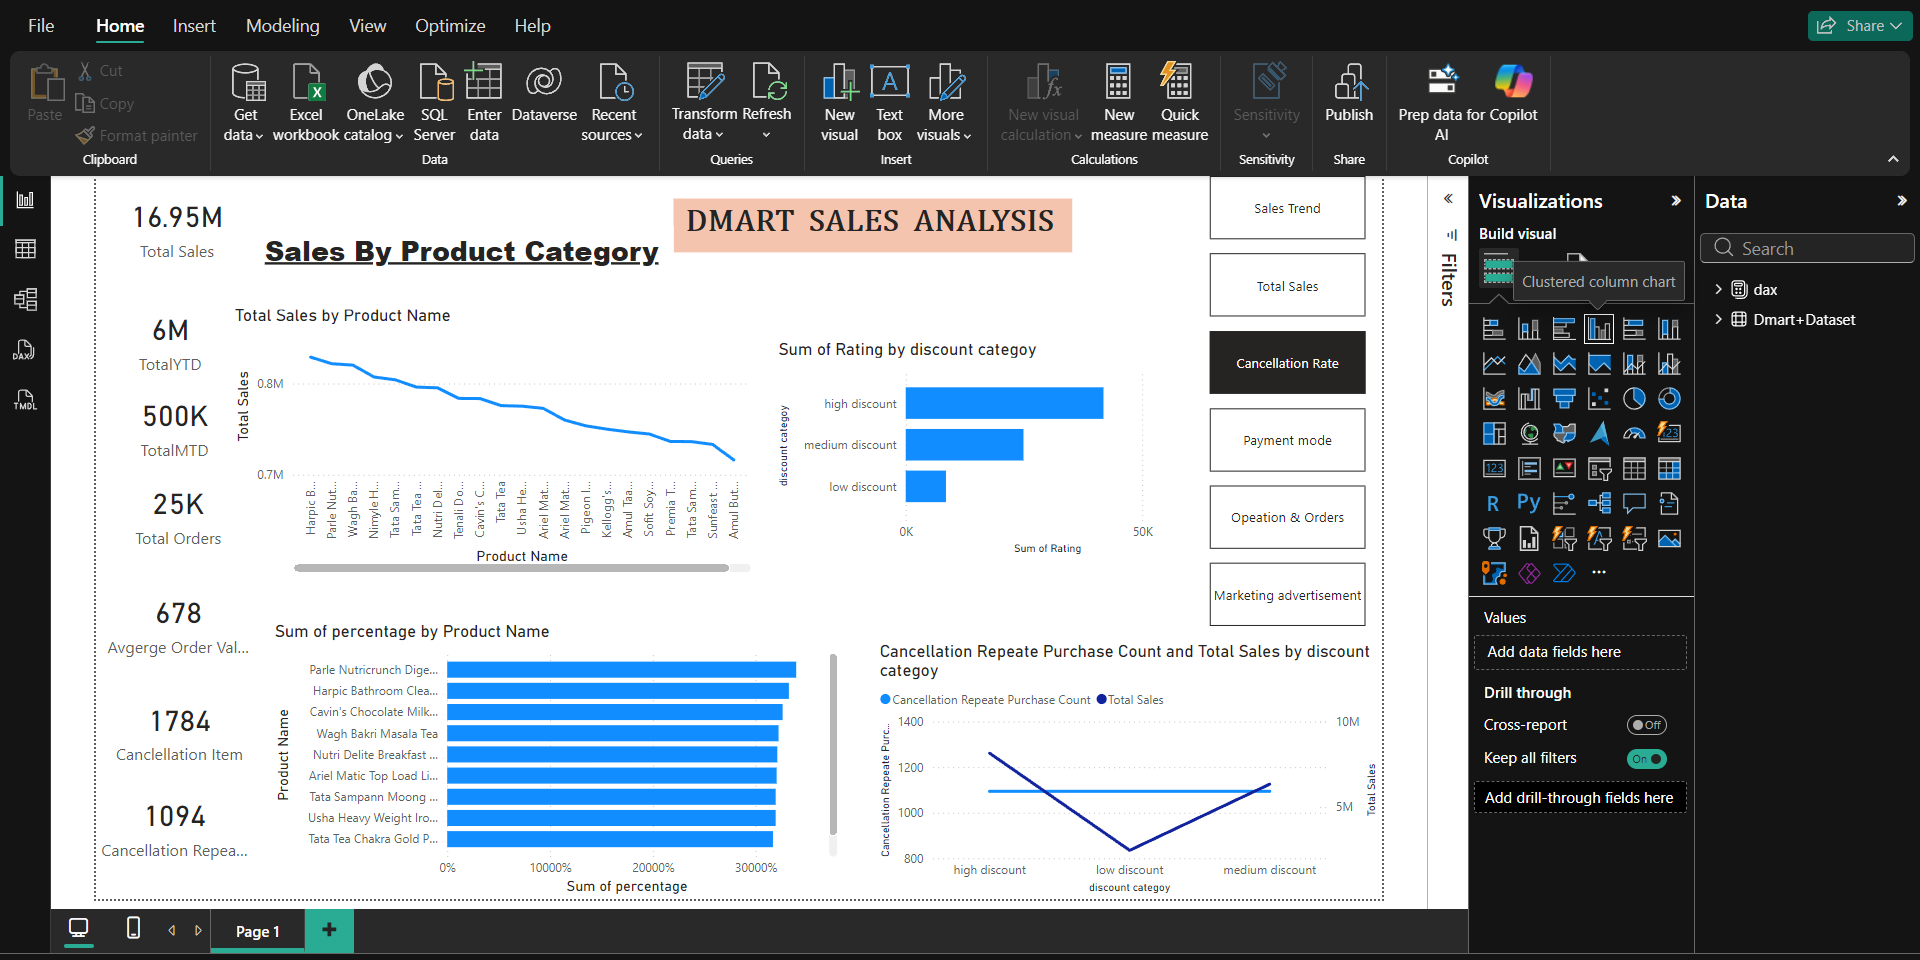

This screenshot's page, from the dashboard's own definition file:
{"tool":"powerbi","page":{"name":"Page 1","canvas":[1280,720],"ordinal":0},"visuals":[{"type":"card","fields":{"Values":["dax.total sales"]},"box":[0,0,161.7,99.5],"z":0},{"type":"donutChart","fields":{"Category":["Dmart+Dataset.Category"],"Y":["dax.total sales"]},"box":[166.7,408,460.3,276.2],"z":0,"group":"g1"},{"type":"columnChart","fields":{"Category":["Dmart+Dataset.Month"],"Y":["dax.total sales"],"Series":["Dmart+Dataset.Year"]},"box":[524.9,138.1,559.8,368.2],"z":1000,"group":"g1"},{"type":"card","fields":{"Values":["dax.total orders"]},"box":[3.7,276.2,156.7,118.2],"z":1000},{"type":"textbox","box":[162.1,60.1,391.8,68.4],"z":2000,"group":"g1"},{"type":"card","fields":{"Values":["dax.avgerge order value"]},"box":[5,394.3,154.3,99.5],"z":2000},{"type":"card","fields":{"Values":["dax.canclenation item"]},"box":[5,493.9,156.7,114.4],"z":3000},{"type":"card","fields":{"Values":["dax.canacle repeate purchase count"]},"box":[0,595.9,156.7,100.8],"z":4000},{"type":"card","fields":{"Values":["dax.totalmtd"]},"box":[0,199,156.7,98.3],"z":5000},{"type":"card","fields":{"Values":["dax.totalytd"]},"box":[0,113.2,148,98.3],"z":6000},{"type":"textbox","box":[574.9,22.5,396.5,53.7],"z":7000},{"type":"bookmarkNavigator","box":[1108.2,0,155.8,453.7],"z":8000},{"type":"group","id":"g1","title":"Group 1","box":[162.1,60.1,922.6,624.1],"z":9000}]}

Visuals, with their boxes on the page's 1280x720 design canvas (x1, y1, x2, y2). These are canvas units, not pixel positions in the 1920x960 screenshot, which may show the page scaled, cropped or inside an application window:
card - dax.total sales: 0:0:162:100
donutChart - Dmart+Dataset.Category x dax.total sales: 167:408:627:684
columnChart - Dmart+Dataset.Month x dax.total sales: 525:138:1085:506
card - dax.total orders: 4:276:160:394
textbox: 162:60:554:128
card - dax.avgerge order value: 5:394:159:494
card - dax.canclenation item: 5:494:162:608
card - dax.canacle repeate purchase count: 0:596:157:697
card - dax.totalmtd: 0:199:157:297
card - dax.totalytd: 0:113:148:212
textbox: 575:22:971:76
bookmarkNavigator: 1108:0:1264:454
"Group 1" group: 162:60:1085:684
